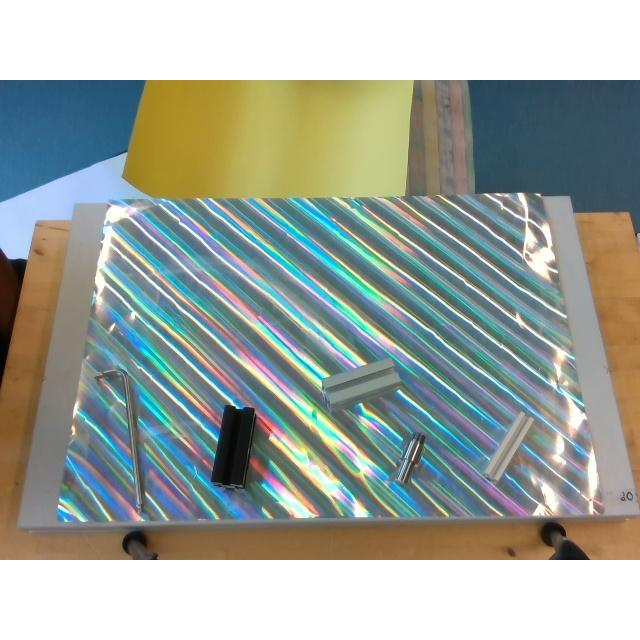AllenKey: (96, 368, 144, 516)
Axis2: (390, 432, 426, 483)
F20_20_G: (483, 411, 532, 483)
S40_40_B: (210, 404, 253, 488)
S40_40_G: (322, 358, 402, 414)
